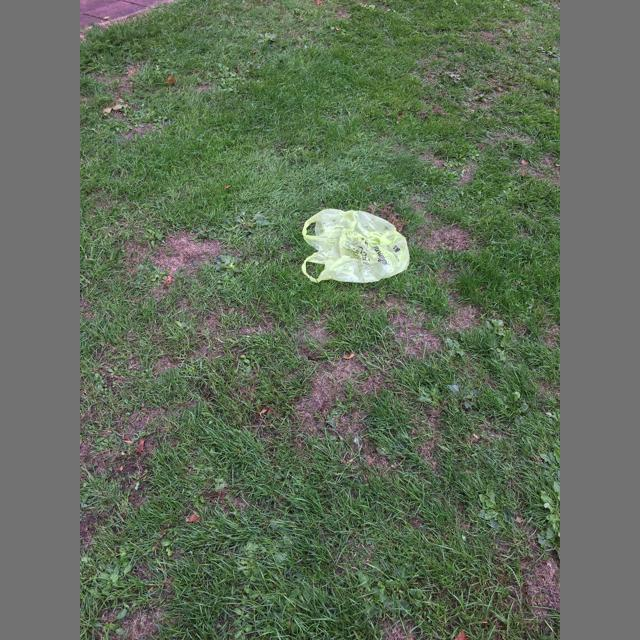litter: (302, 209, 410, 283)
